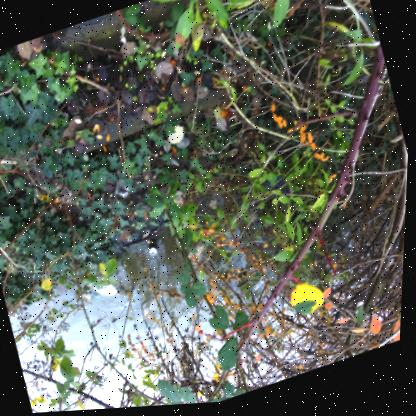Metal: (151, 245, 160, 258)
Plastic: (96, 284, 121, 297)
